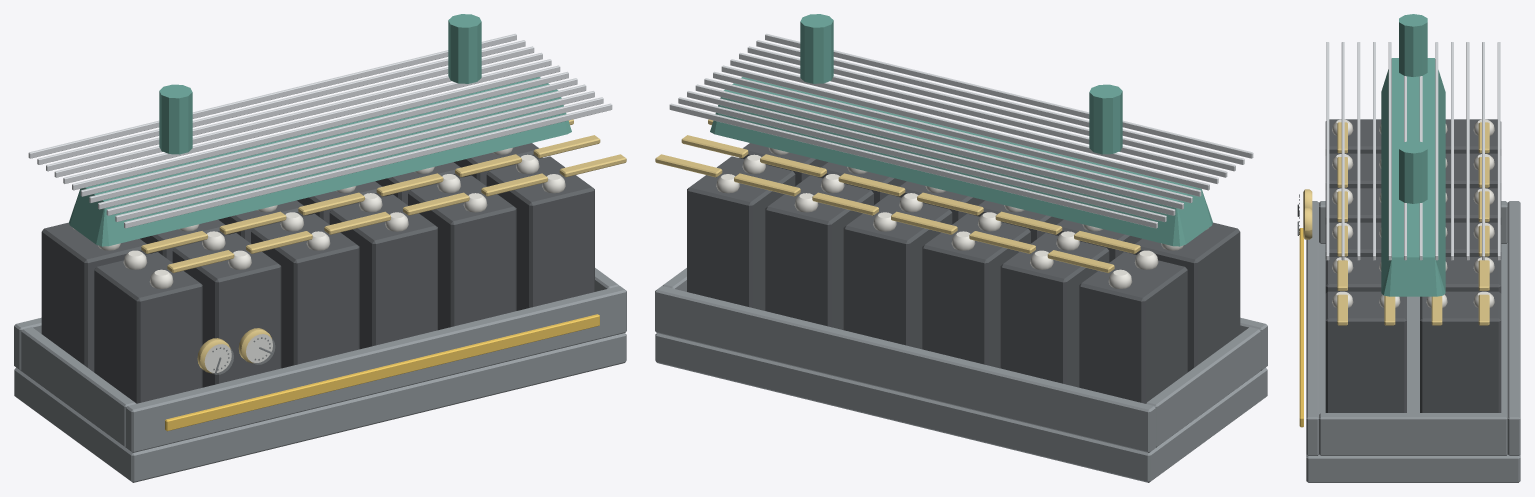
Rendered from submarine-interior-and-control-room-battery-bank-175d6eb4__36517.glb.
3 views of the same model, side by side, from view 1: azimuth 30°, elevation 25°; view 2: azimuth 150°, elevation 25°; view 3: azimuth 270°, elevation 25° (orthographic). The views are drawn at different scales.
Parts seen in each view (by area): view 1: battery-bank; view 2: battery-bank; view 3: battery-bank.
Part boxes in pixels (left/top/right/bottom): battery-bank: left=14, top=14, right=626, bottom=482; battery-bank: left=655, top=14, right=1267, bottom=482; battery-bank: left=1297, top=14, right=1520, bottom=482.
Size of the model in its own units: 2.48 by 1.5 by 1.05.
